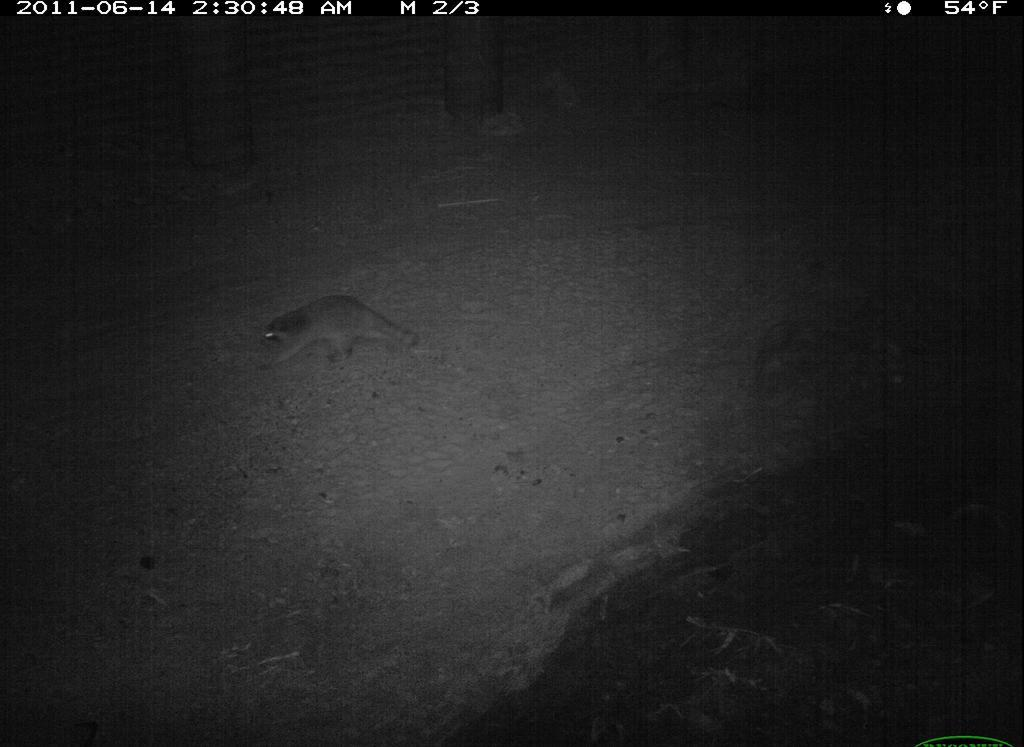raccoon: (254, 286, 428, 378)
